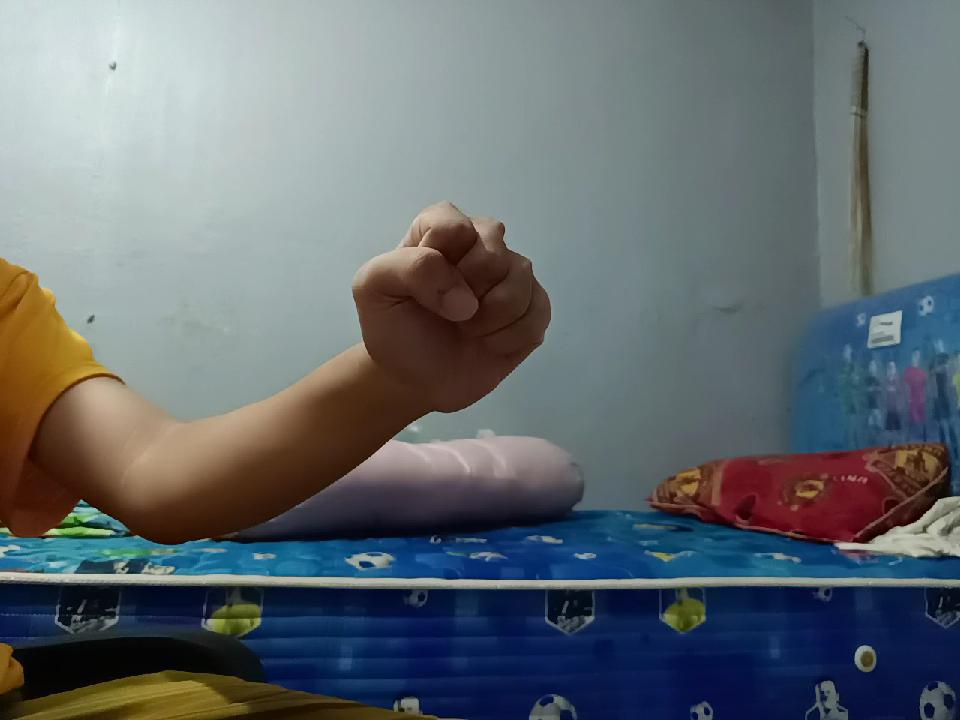rock: (347, 198, 557, 403)
